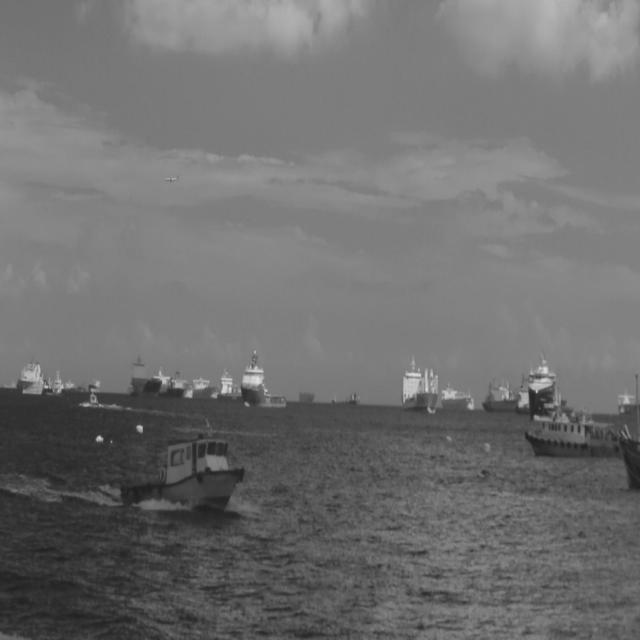buoy: (135, 424, 144, 434)
ship: (120, 416, 246, 512), (524, 385, 620, 459), (241, 344, 288, 406), (528, 348, 568, 420), (401, 353, 438, 414), (125, 354, 163, 398), (481, 371, 518, 412), (619, 429, 639, 493), (17, 354, 45, 396), (440, 379, 474, 412), (183, 372, 218, 401), (218, 363, 241, 401), (166, 362, 189, 397), (618, 386, 640, 416), (50, 368, 66, 396), (332, 391, 359, 406), (88, 376, 101, 392), (88, 390, 99, 408)
